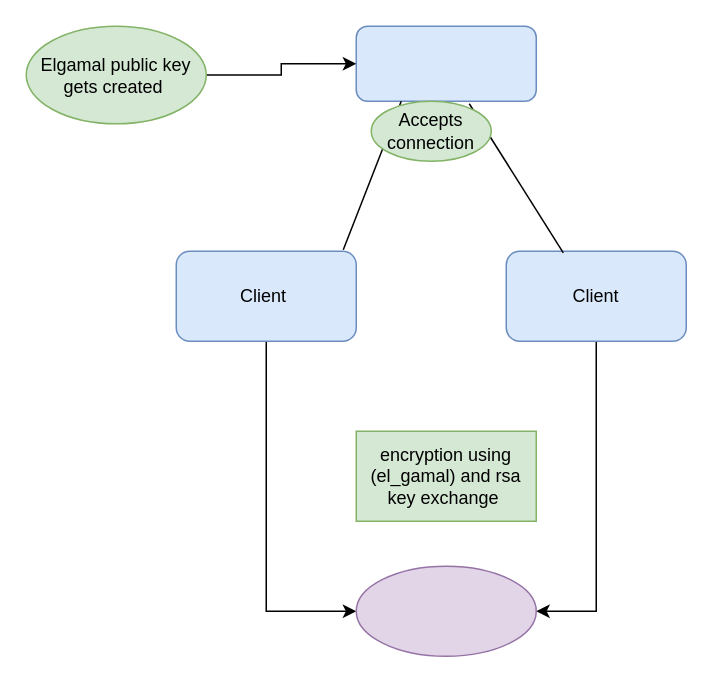
Image size: 713x683. Some labels were removed from this diagram. Each missing label, with the centre of its shape:
"Connects" goes at [445,610].
"SERVER" goes at [445,63].
